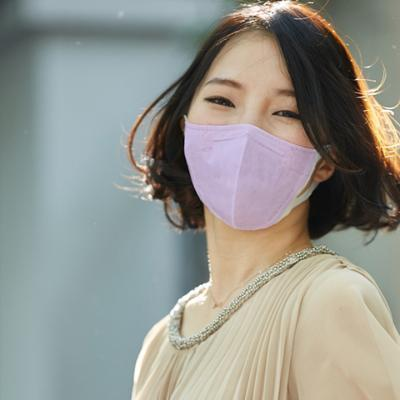mask: (178, 90, 332, 236)
